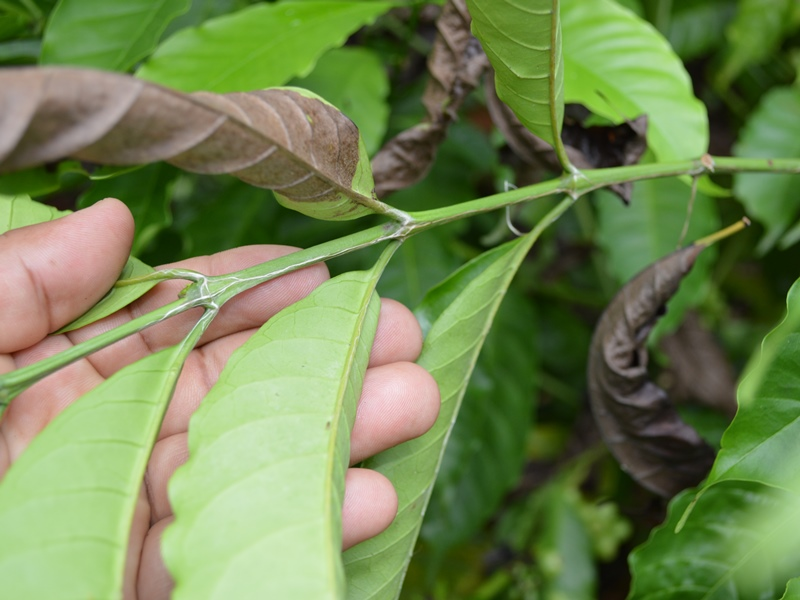mal de hilachas: (8, 41, 372, 245), (382, 3, 648, 200), (591, 211, 751, 485)
